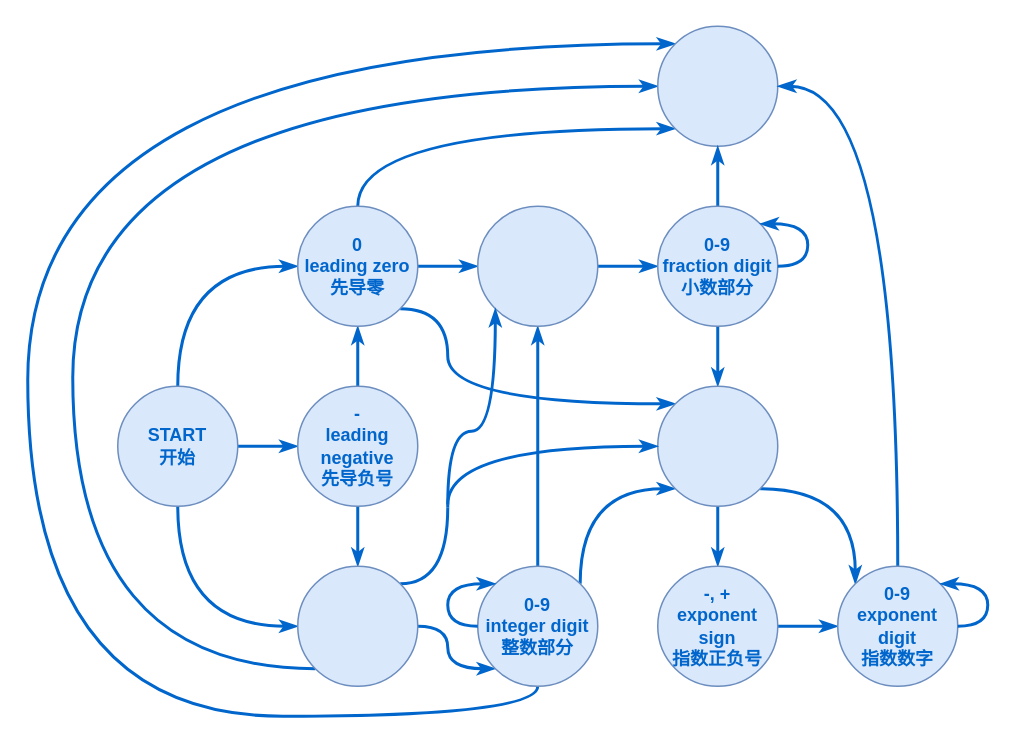
Image size: 1014x744. Some labels were removed from this diagram. Here are the shapes that lost their labels. From the top down, the box of each, then its label:
(656, 25, 778, 146): END legally 合法结束
(476, 205, 598, 326): . fraction 小数点
(656, 385, 778, 506): E, e exponent 指数标记
(296, 565, 418, 686): 1-9 leading digit 先导数字
